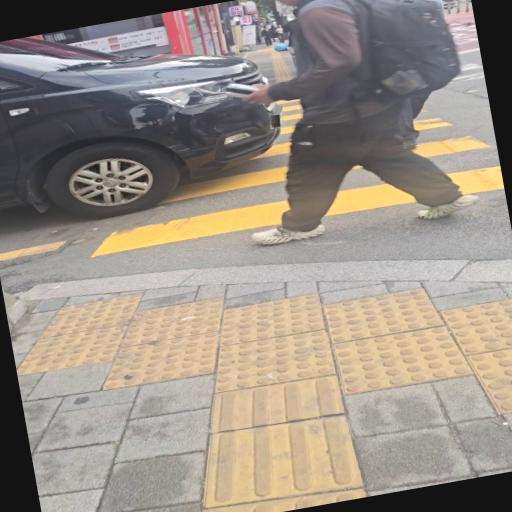yellow-crosswalk: (39, 47, 505, 272)
